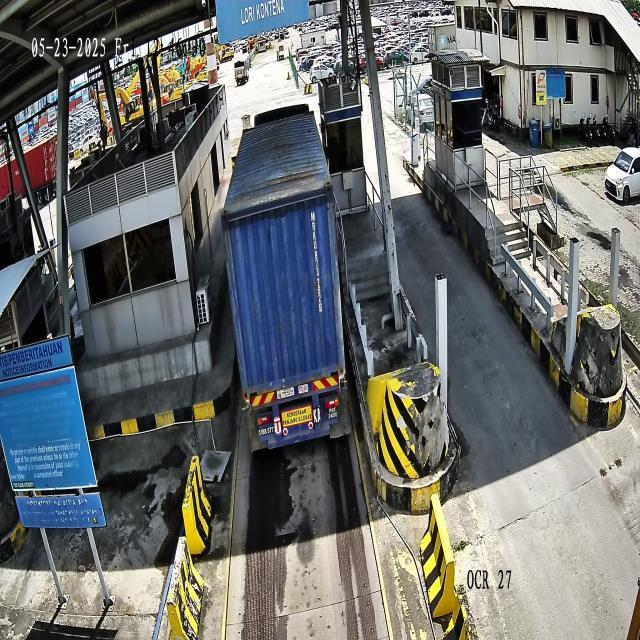container_number: (309, 208, 322, 316)
